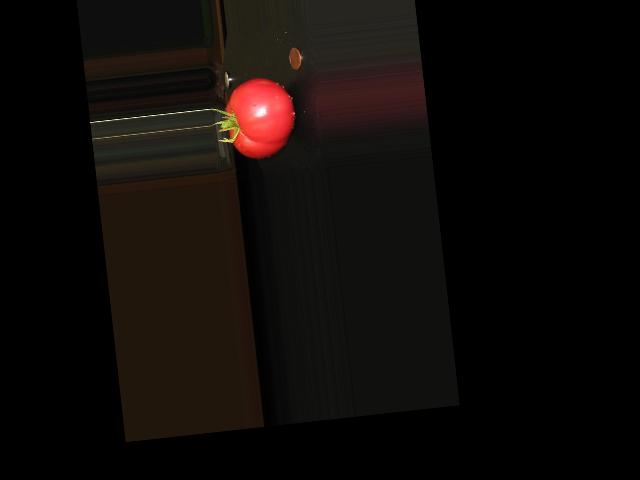tomato: (222, 75, 299, 162)
